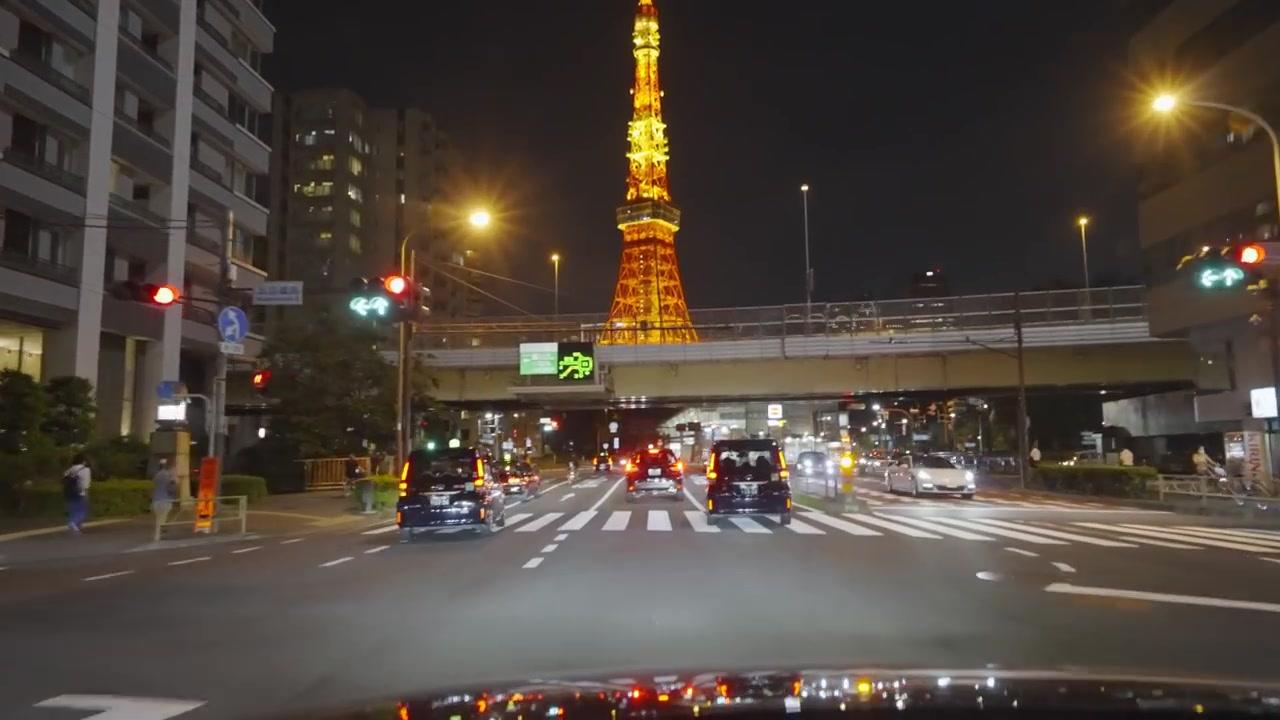car: (395, 447, 510, 541), (887, 451, 976, 499), (626, 446, 683, 499), (494, 462, 541, 497), (794, 450, 835, 482), (829, 442, 859, 473), (858, 455, 888, 478)
person: (150, 456, 180, 543), (61, 456, 92, 537)
traffic light: (1193, 242, 1275, 292), (110, 282, 182, 307), (1235, 241, 1269, 288), (385, 275, 414, 319), (415, 277, 432, 316), (250, 367, 271, 394)
truck: (703, 436, 792, 519)
